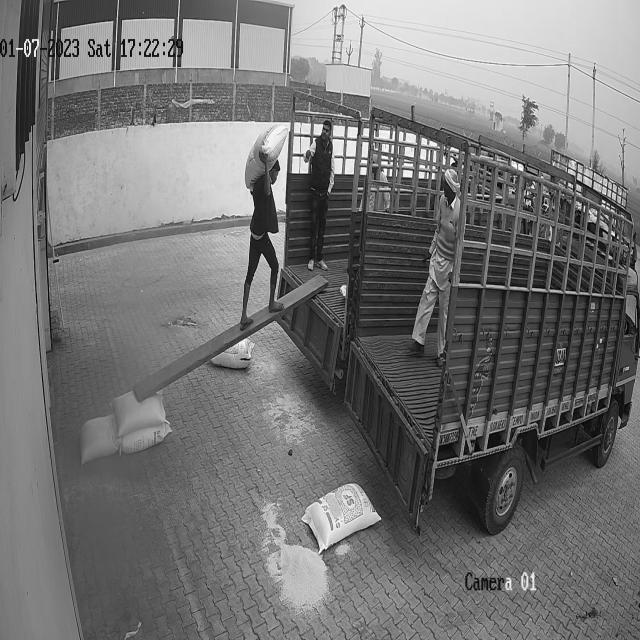sack: (302, 482, 382, 554), (244, 125, 288, 188), (111, 389, 166, 436), (80, 413, 118, 463), (121, 422, 170, 453), (210, 339, 253, 370)
